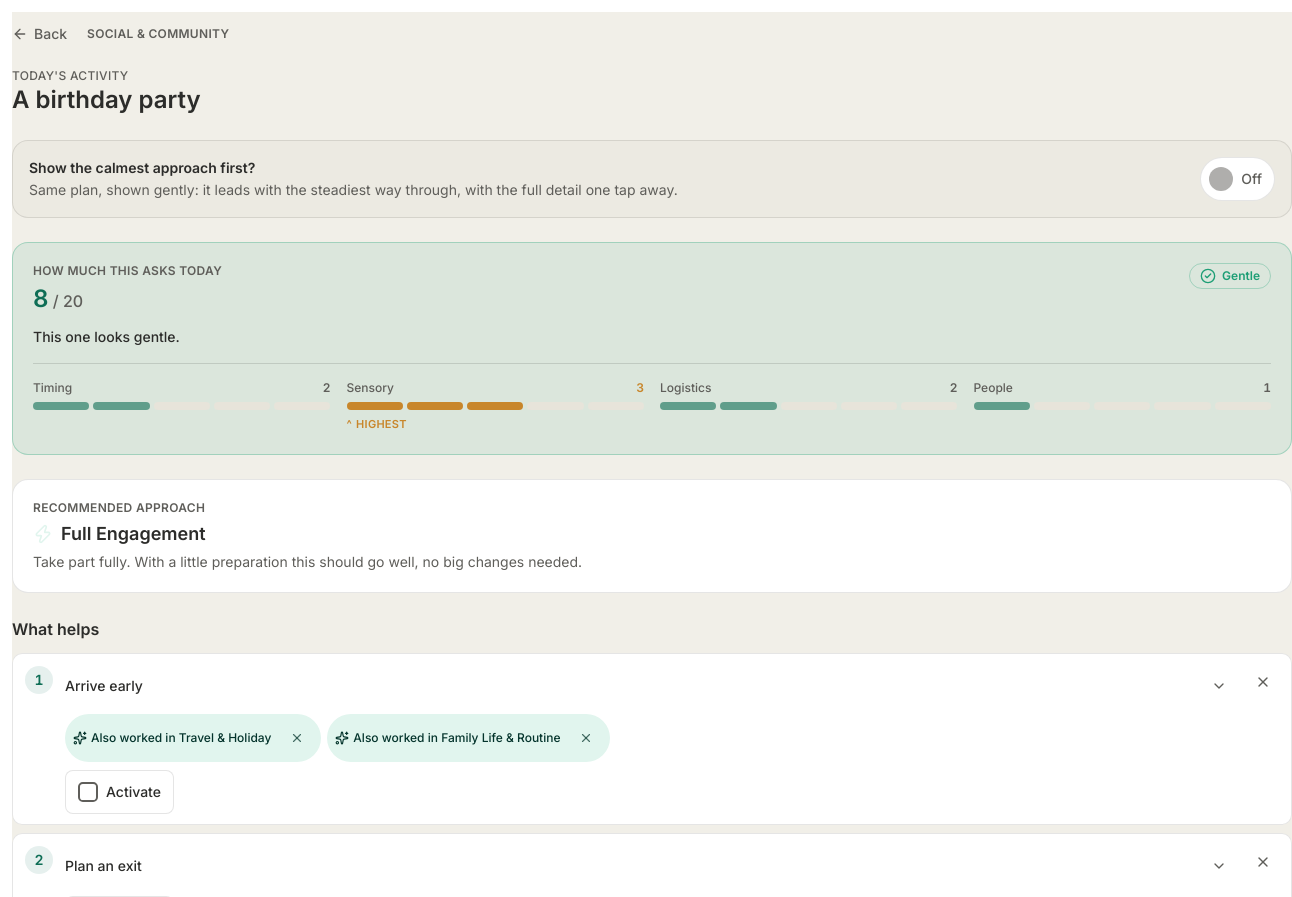
Test case: PreparationPlanView 'Also worked in' label (Task 9) › dismisses one chapter's label without removing the strategy or the other label
Step 1. Click the button named "dismiss the Travel & Holiday note for Arrive early" next to "Travel & Holiday" → click(297, 738), box [275,716,319,760]
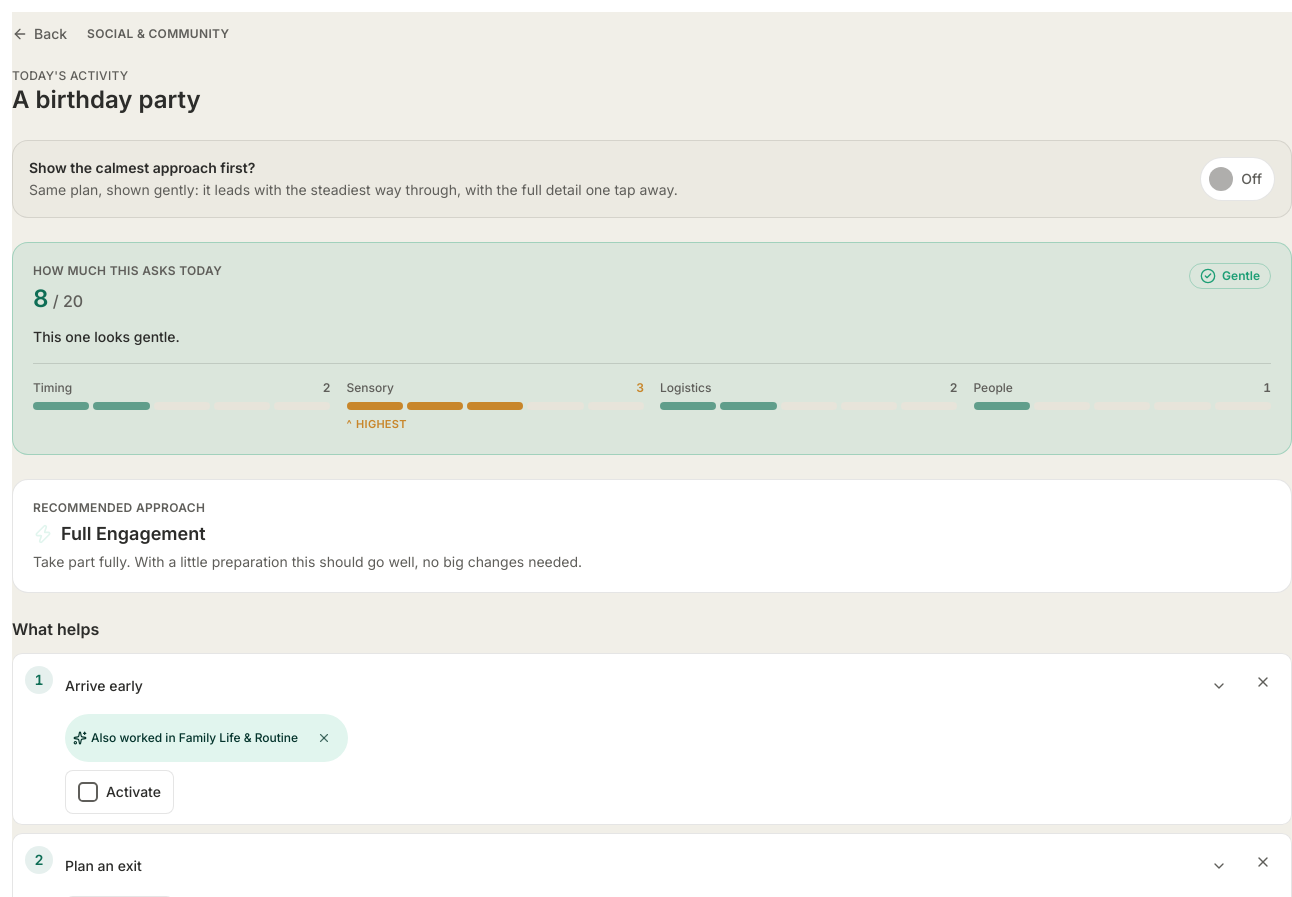
Expected: the text "Also worked in Family Life & Routine" is shown, [91,730,298,746]
Expected: the text "Also worked in Travel & Holiday" is gone
